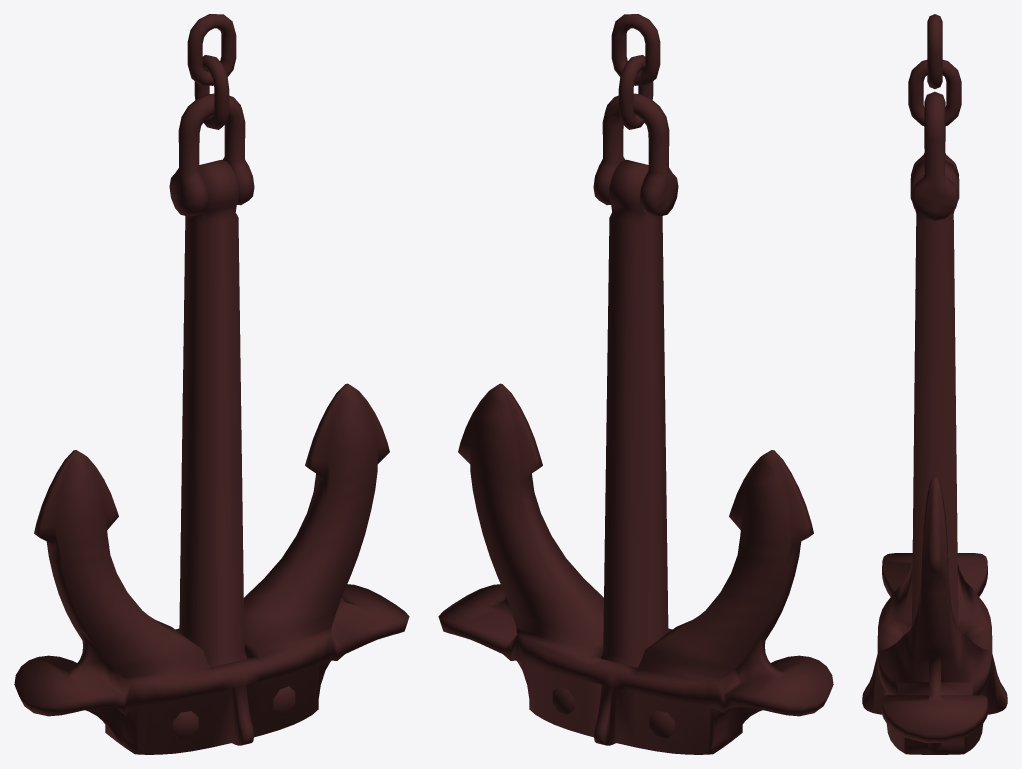
The model's file is HallAnchor.obj.
3 views of the same model, side by side, from view 1: azimuth 30°, elevation 25°; view 2: azimuth 150°, elevation 25°; view 3: azimuth 270°, elevation 25° (orthographic).
Visible parts, largest first — view 1: HallAnchor_rust_Cube.000, HallAnchor_rust_balk_Cube.004, HallAnchor_rust_handle_Cube.005, HallAnchor_rust_chain2_Cube.007, HallAnchor_rust_chain1_Cube.006; view 2: HallAnchor_rust_Cube.000, HallAnchor_rust_balk_Cube.004, HallAnchor_rust_handle_Cube.005, HallAnchor_rust_chain2_Cube.007, HallAnchor_rust_chain1_Cube.006; view 3: HallAnchor_rust_Cube.000, HallAnchor_rust_balk_Cube.004, HallAnchor_rust_handle_Cube.005, HallAnchor_rust_chain1_Cube.006, HallAnchor_rust_chain2_Cube.007.
Part boxes in pixels (box(x1,y1,x2,y2)): HallAnchor_rust_Cube.000: box(14, 383, 409, 754); HallAnchor_rust_balk_Cube.004: box(179, 159, 246, 667); HallAnchor_rust_handle_Cube.005: box(169, 93, 254, 216); HallAnchor_rust_chain2_Cube.007: box(187, 14, 236, 85); HallAnchor_rust_chain1_Cube.006: box(194, 55, 229, 129); HallAnchor_rust_Cube.000: box(438, 383, 833, 754); HallAnchor_rust_balk_Cube.004: box(601, 159, 668, 667); HallAnchor_rust_handle_Cube.005: box(593, 93, 678, 216); HallAnchor_rust_chain2_Cube.007: box(611, 14, 660, 85); HallAnchor_rust_chain1_Cube.006: box(618, 55, 653, 129); HallAnchor_rust_Cube.000: box(862, 477, 1007, 754); HallAnchor_rust_balk_Cube.004: box(910, 160, 959, 626); HallAnchor_rust_handle_Cube.005: box(911, 91, 958, 220); HallAnchor_rust_chain1_Cube.006: box(908, 60, 961, 125); HallAnchor_rust_chain2_Cube.007: box(927, 14, 942, 88).
Bounding box in the file's own units: 2.67 × 4.82 × 0.9106.
